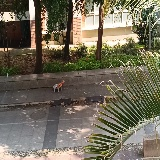fire: (57, 79, 64, 88)
